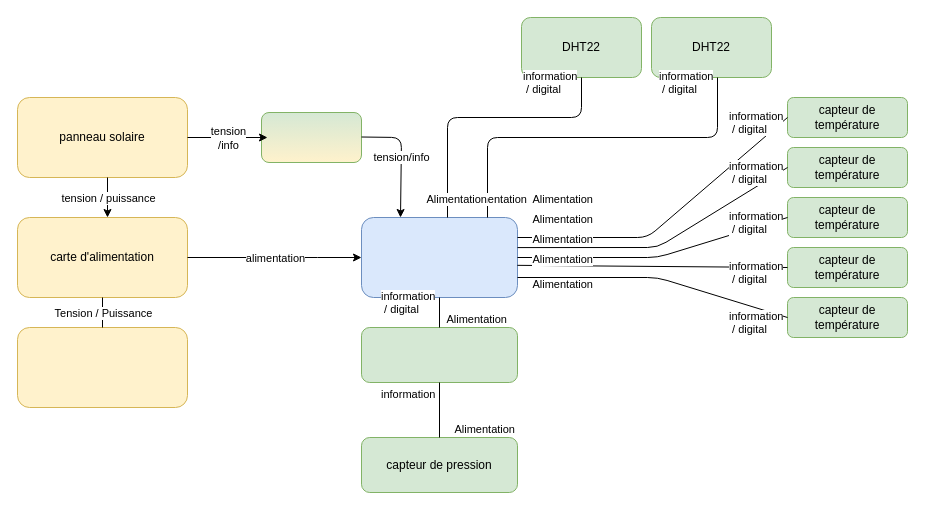
Some shapes in this 925 by 510 pixel diagram are drawn without their labels. Each missing label, with the centre of its shape:
"batterie" goes at point 102,367.
"Carte Arduino MKR FOX 1200" goes at point 439,257.
"HX711" goes at point 439,354.
"pont diviseur de tension" goes at point 311,137.
